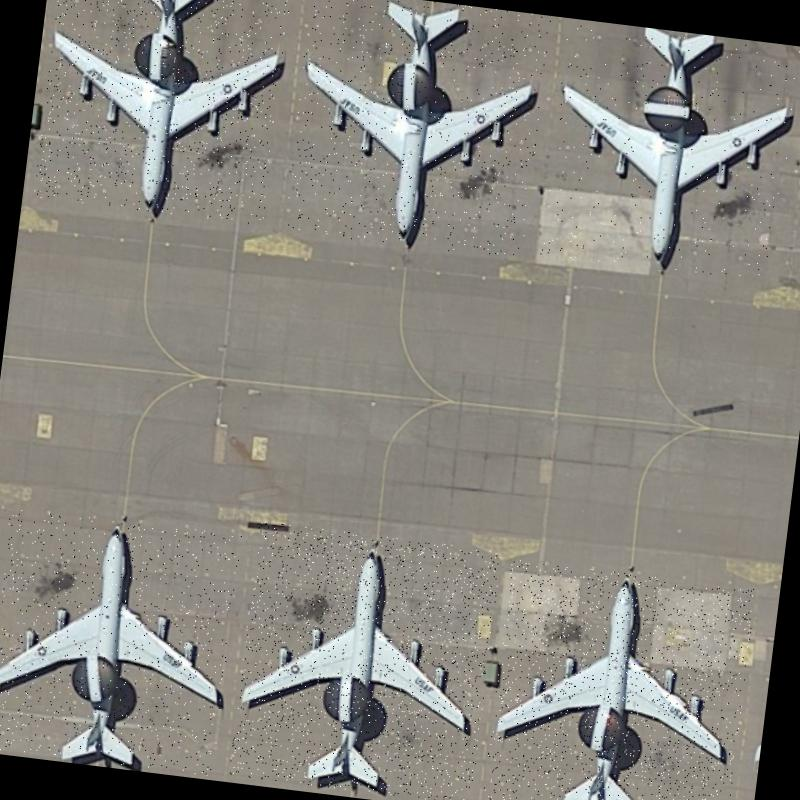A7: (228, 520, 501, 800), (282, 0, 551, 260), (538, 22, 800, 282), (481, 559, 755, 800), (0, 506, 241, 776), (33, 0, 292, 224)
